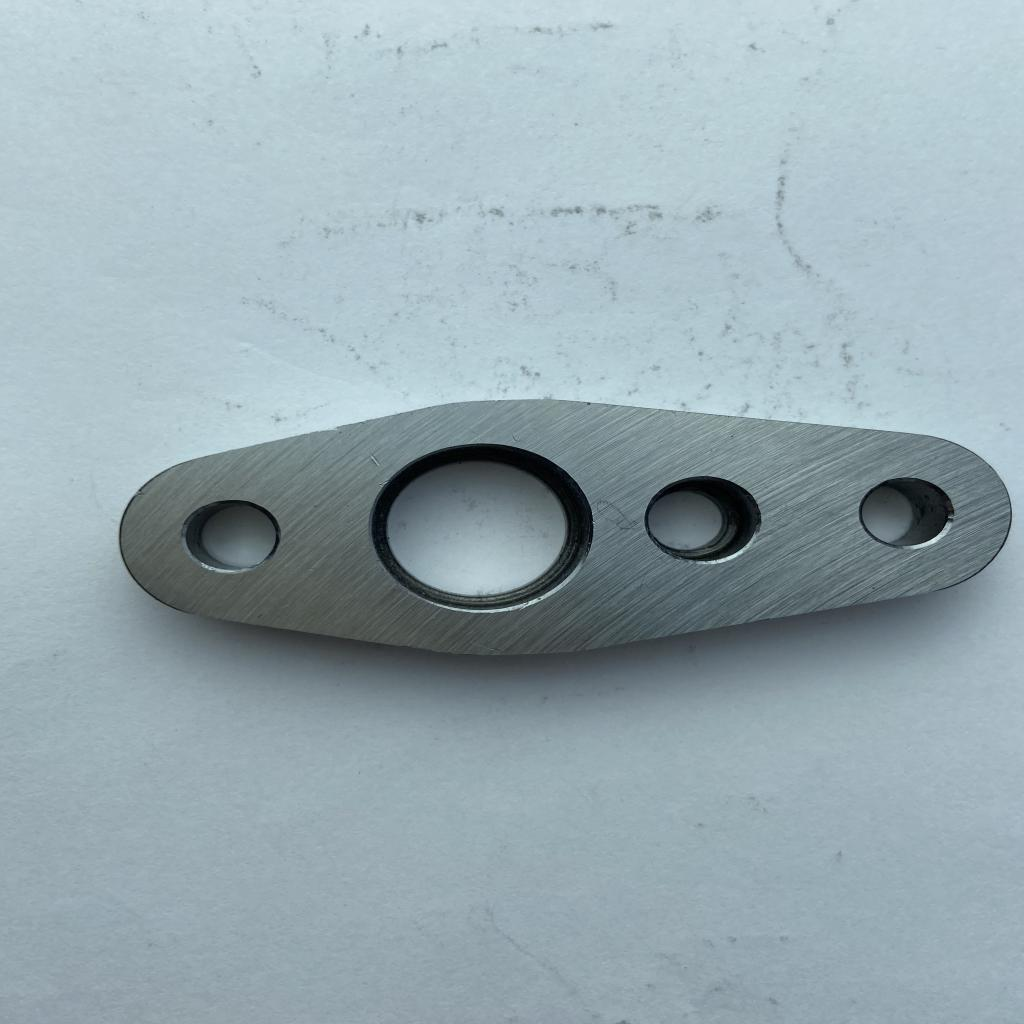chap: (367, 452, 381, 467), (376, 476, 390, 489), (133, 489, 150, 496)
lines: (594, 495, 637, 534), (506, 431, 525, 444)
